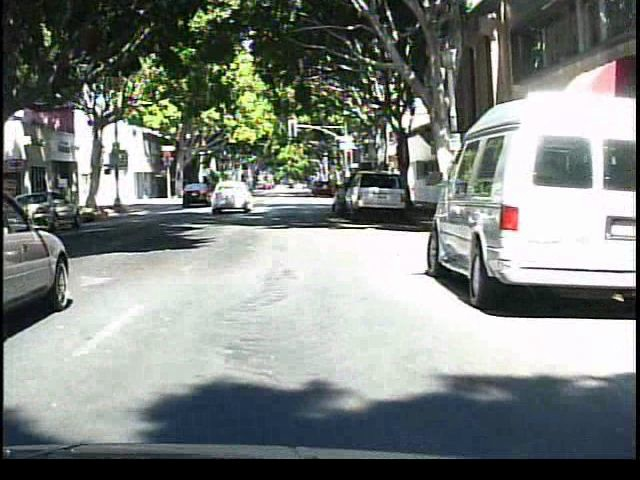person: (218, 171, 241, 207)
